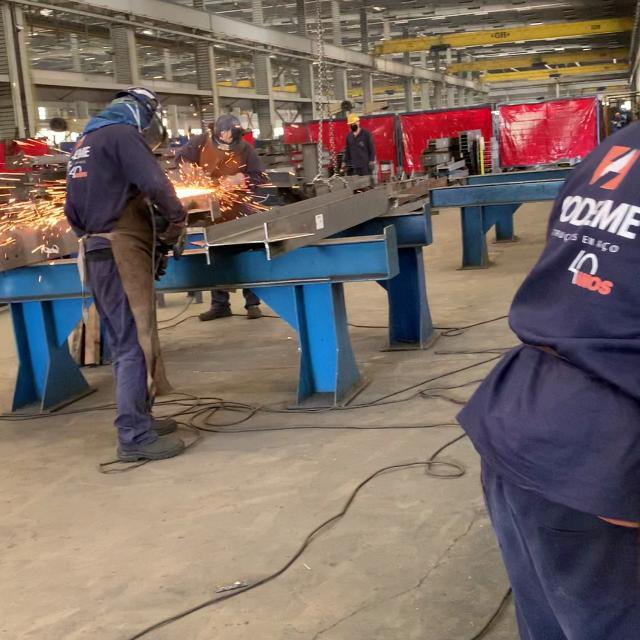glove: (160, 219, 187, 261)
helmet: (120, 86, 162, 126)
person: (64, 88, 196, 461)
safety-shoe: (115, 432, 189, 460), (152, 415, 179, 434)
